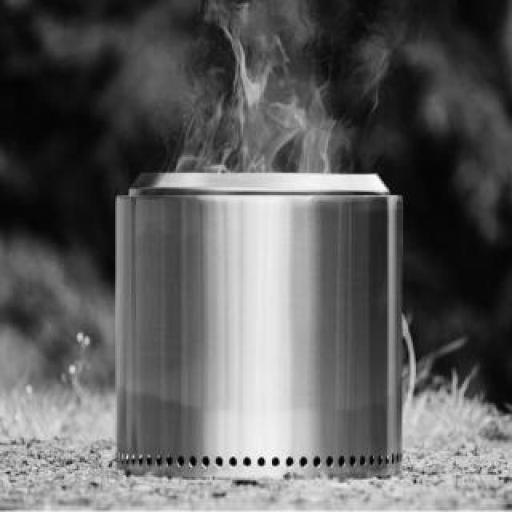smoke: (184, 10, 357, 179)
